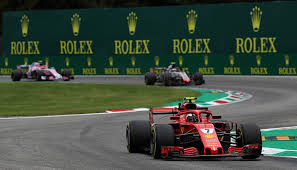f1_car: (120, 91, 273, 168), (137, 55, 219, 92), (9, 55, 79, 87)
